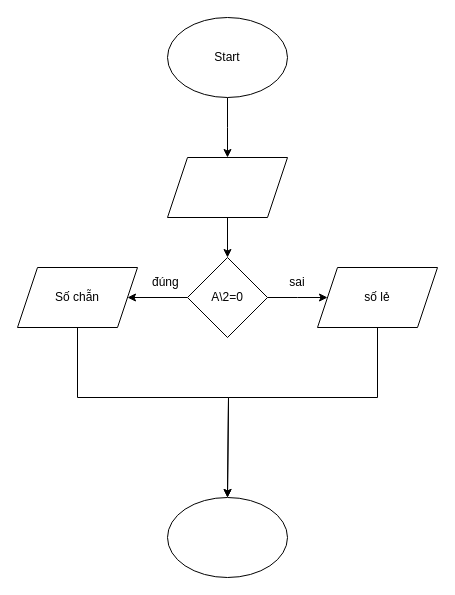
The diagram is 455 pixels wide and 595 high, and some of its shapes have lost their labels. Each missing label, with the centre of its shape:
End: (x=227, y=537)
nhập vào số A: (x=227, y=187)
